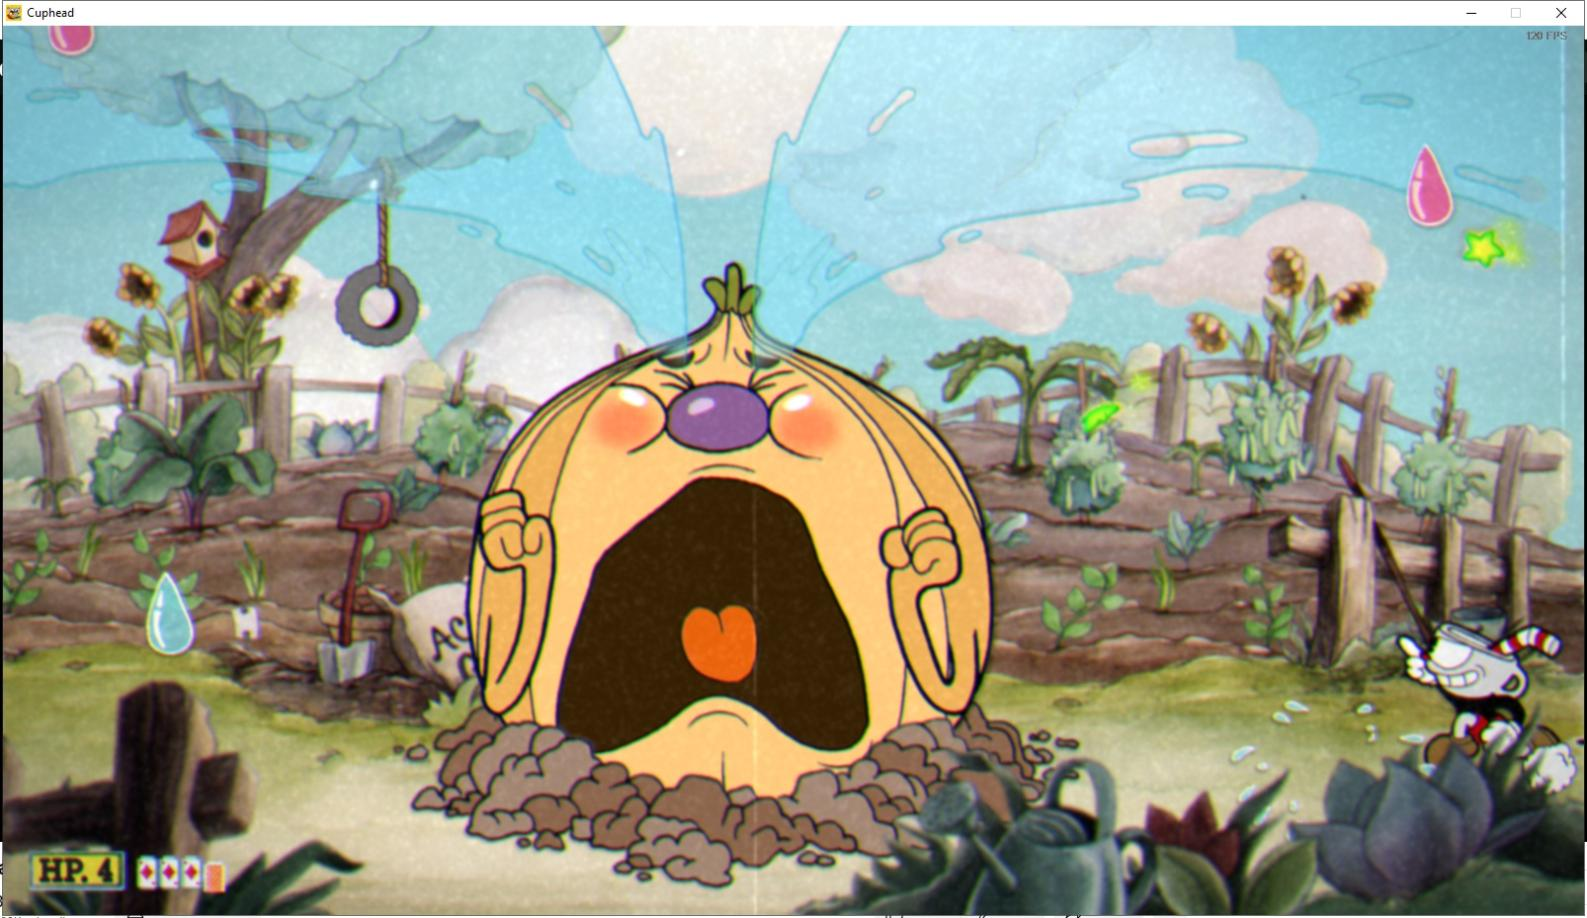hp4: (93, 853, 123, 890)
onion_boss: (441, 246, 1008, 848)
pink_rain: (1396, 134, 1463, 236), (48, 23, 99, 62)
player: (1378, 596, 1583, 800)
rain: (136, 562, 200, 662)
